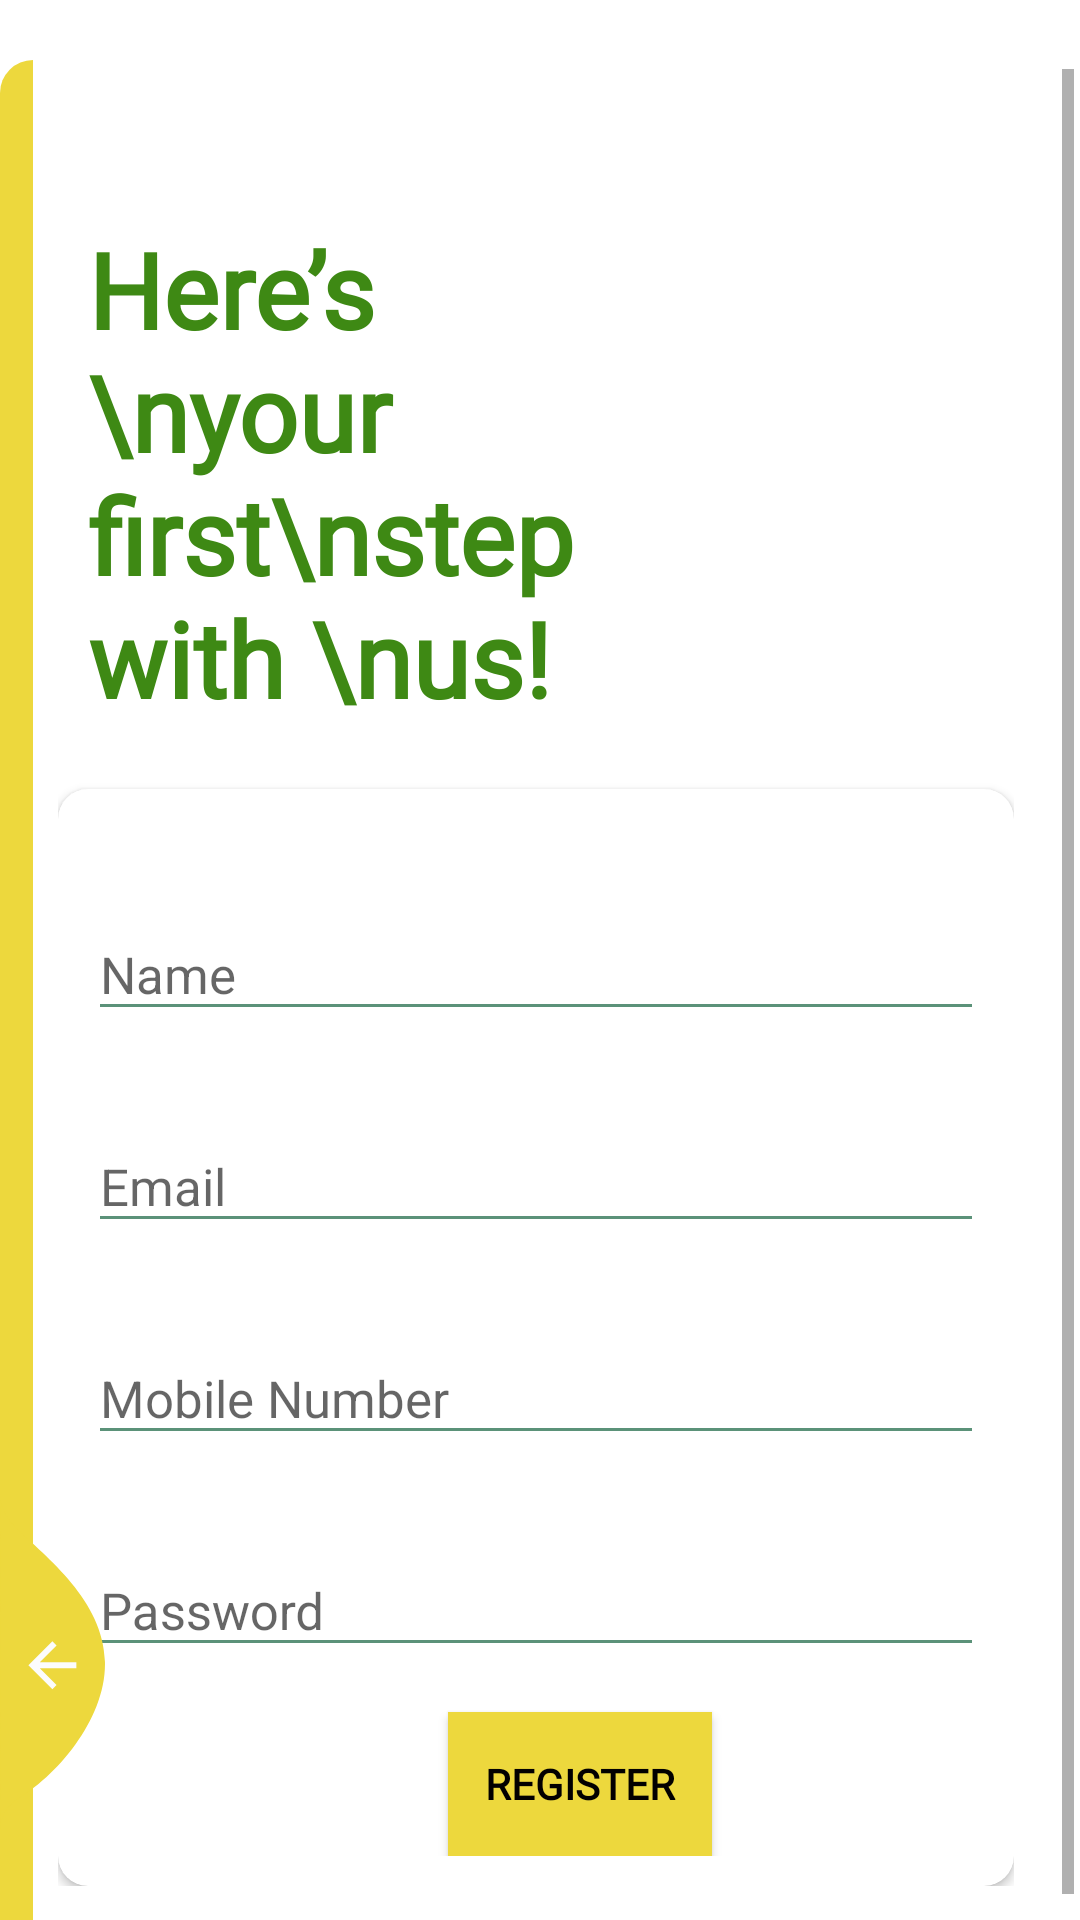

Named icons in this screenshot (1080×1920) and their bounding boxes, (x1, y1, x2, y2):
back: (0, 1500, 105, 1830)
